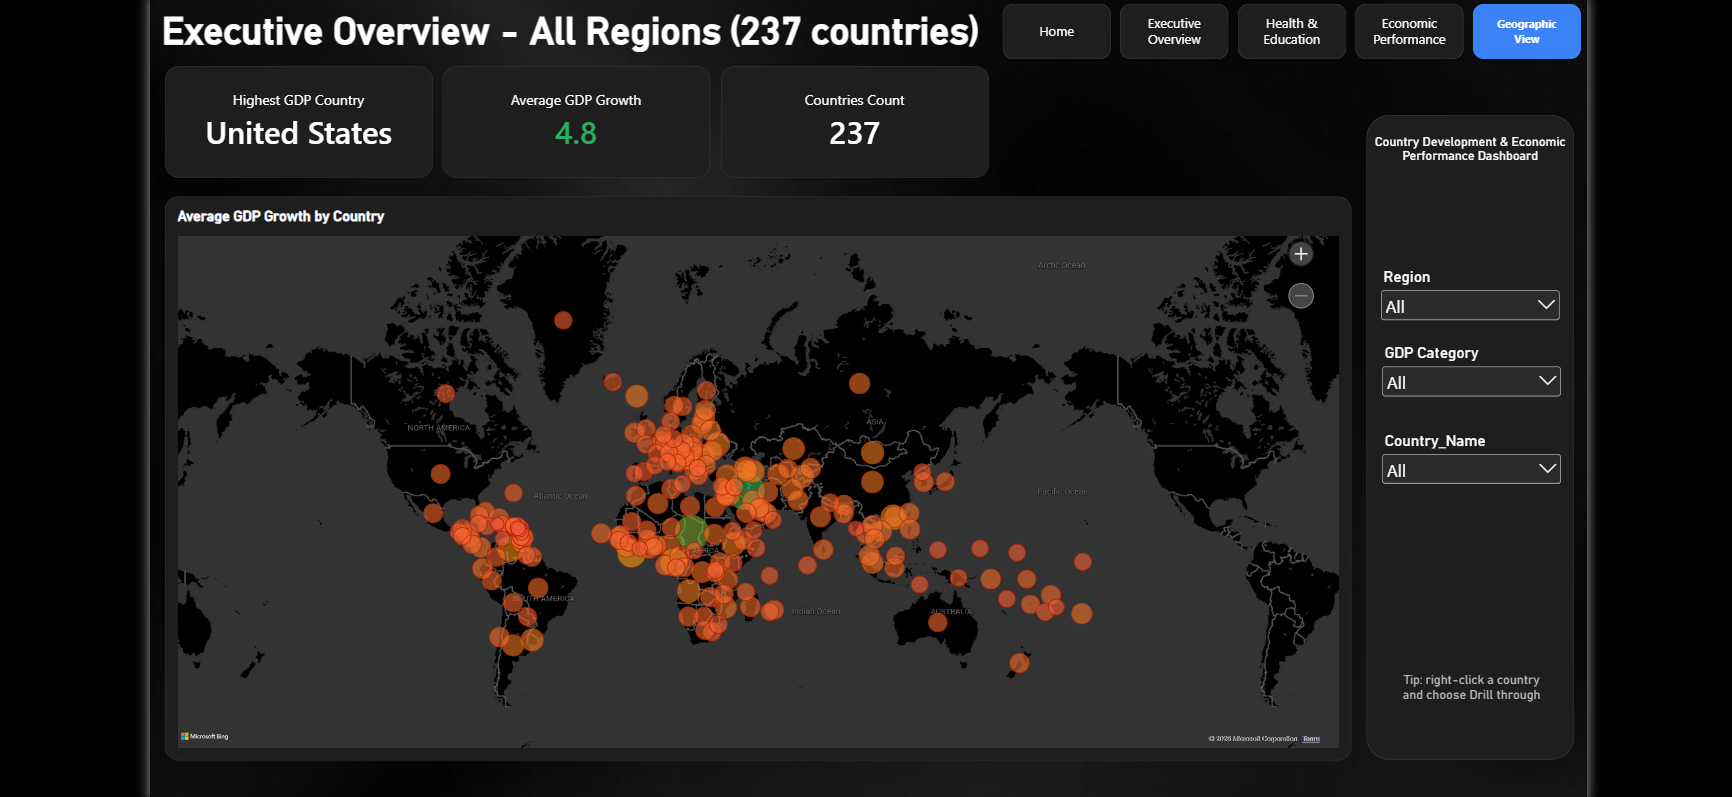

The page's visual inventory and layout, read from the dashboard file:
{"tool":"powerbi","page":{"name":"Geographic View","canvas":[1920,1080],"ordinal":4},"visuals":[{"type":"shape","box":[1623.9,160.3,277.8,861.4],"z":0},{"type":"slicer","fields":{"Values":["Country Data Comparison.Country_Name"]},"box":[1642.2,582.1,248,72.7],"z":1000},{"type":"slicer","fields":{"Values":["Dim_Region.Region"]},"box":[1640.3,363.9,248,70.8],"z":2000},{"type":"slicer","fields":{"Values":["Country Data Comparison.GDP Category"]},"box":[1642.2,466.5,247.9,72.4],"z":3000},{"type":"textbox","box":[1661.2,904.3,208,48],"z":4000},{"type":"pageNavigator","box":[1139.2,11.2,775.6,74.6],"z":5000},{"type":"cardVisual","fields":{"Data":["AllMeasures.Executive Overview Title"]},"box":[0,0,1139.2,95.1],"z":6000},{"type":"textbox","box":[1623.9,184.6,277.8,59.7],"z":7000},{"type":"cardVisual","fields":{"Data":["AllMeasures.Highest GDP Country"]},"box":[20.5,95.1,358,149.2],"z":7001},{"type":"cardVisual","fields":{"Data":["AllMeasures.Average GDP Growth"]},"box":[391.5,95.1,358,149.2],"z":7002},{"type":"cardVisual","fields":{"Data":["AllMeasures.Countries Count"]},"box":[762.6,95.1,358,149.2],"z":7003},{"type":"map","title":"Average GDP Growth by Country","fields":{"Category":["Country Data Comparison.Country_Name"],"Size":["AllMeasures.Average GDP Growth"]},"box":[20.5,268.5,1584.8,753.2],"z":7004}]}

Visuals, with their boxes on the page's 1920x1080 design canvas (x1, y1, x2, y2). These are canvas units, not pixel positions in the 1732x797 screenshot, which may show the page scaled, cropped or inside an application window:
shape: region(1624, 160, 1902, 1022)
slicer - Country Data Comparison.Country_Name: region(1642, 582, 1890, 655)
slicer - Dim_Region.Region: region(1640, 364, 1888, 435)
slicer - Country Data Comparison.GDP Category: region(1642, 466, 1890, 539)
textbox: region(1661, 904, 1869, 952)
pageNavigator: region(1139, 11, 1915, 86)
cardVisual - AllMeasures.Executive Overview Title: region(0, 0, 1139, 95)
textbox: region(1624, 185, 1902, 244)
cardVisual - AllMeasures.Highest GDP Country: region(20, 95, 378, 244)
cardVisual - AllMeasures.Average GDP Growth: region(392, 95, 750, 244)
cardVisual - AllMeasures.Countries Count: region(763, 95, 1121, 244)
"Average GDP Growth by Country" map: region(20, 268, 1605, 1022)
